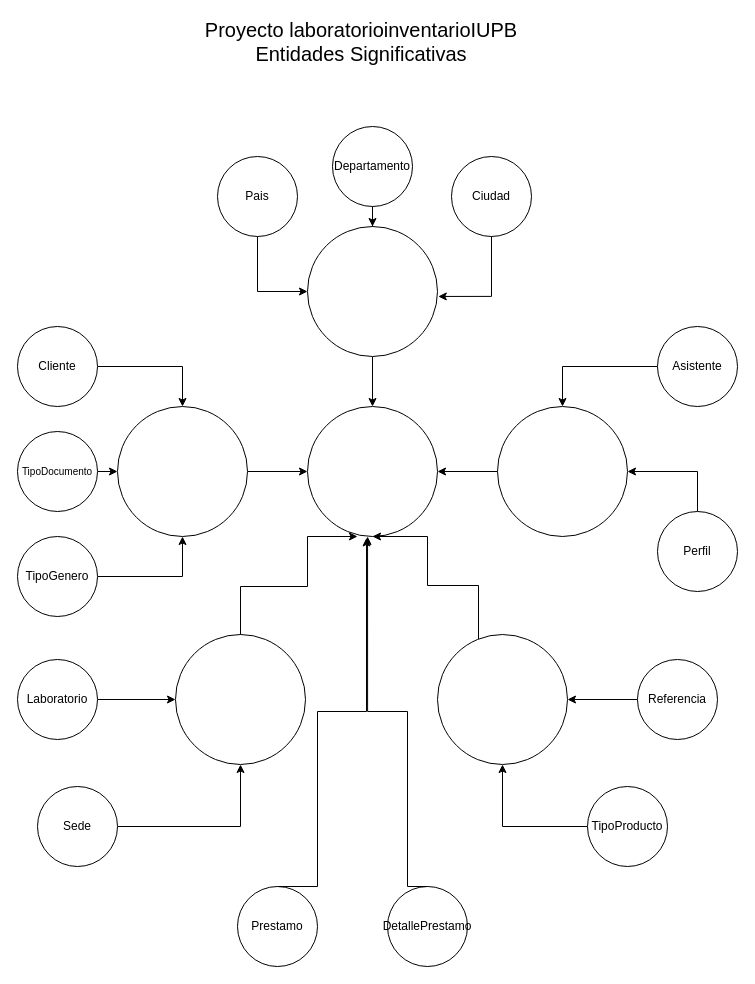
Some shapes in this 755 by 984 pixel diagram are drawn without their labels. The centre of each missing label's shape, as x and y in pixels:
"Comprador" goes at (182,471).
"Geografia" goes at (372,291).
"Organización" goes at (240,699).
"Producto" goes at (502,699).
"Transacción" goes at (372,471).
"Vendedor" goes at (562,471).
